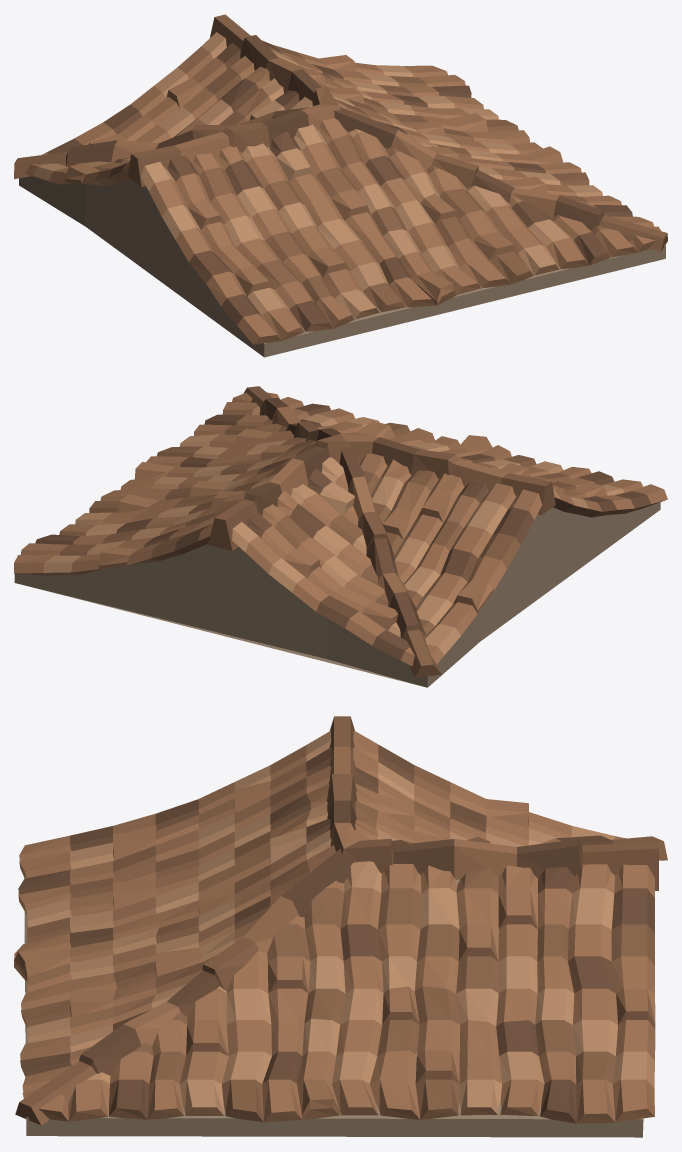
File: SM_Bld_Cuba_Roof_04.glb
3 views of the same model, one above another, from view 1: azimuth 30°, elevation 25°; view 2: azimuth 150°, elevation 25°; view 3: azimuth 270°, elevation 25° (orthographic). The views are drawn at different scales.
Parts seen in each view (by area): view 1: SM_Bld_Cuba_Roof_04_part00; view 2: SM_Bld_Cuba_Roof_04_part00; view 3: SM_Bld_Cuba_Roof_04_part00.
Part boxes in pixels (x1=…): SM_Bld_Cuba_Roof_04_part00: x1=14, y1=14, x2=667, y2=357; SM_Bld_Cuba_Roof_04_part00: x1=14, y1=386, x2=667, y2=687; SM_Bld_Cuba_Roof_04_part00: x1=14, y1=716, x2=667, y2=1137.
Size of the model in its own units: 4.34 by 1.17 by 4.32.
1 material, 1 textured.
